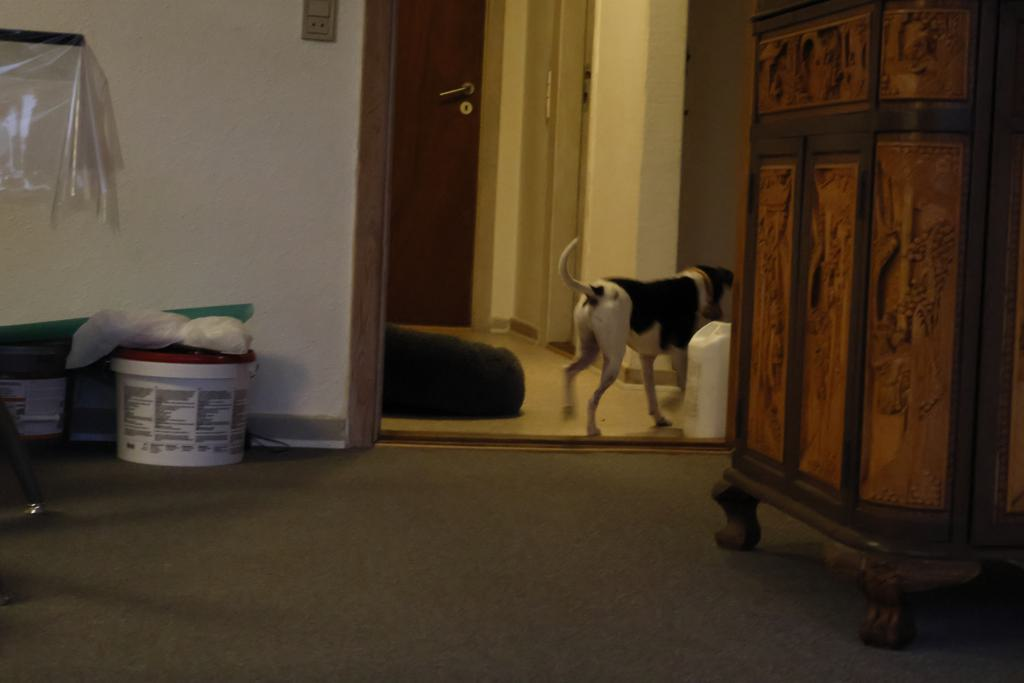Dog: (548, 214, 744, 448)
